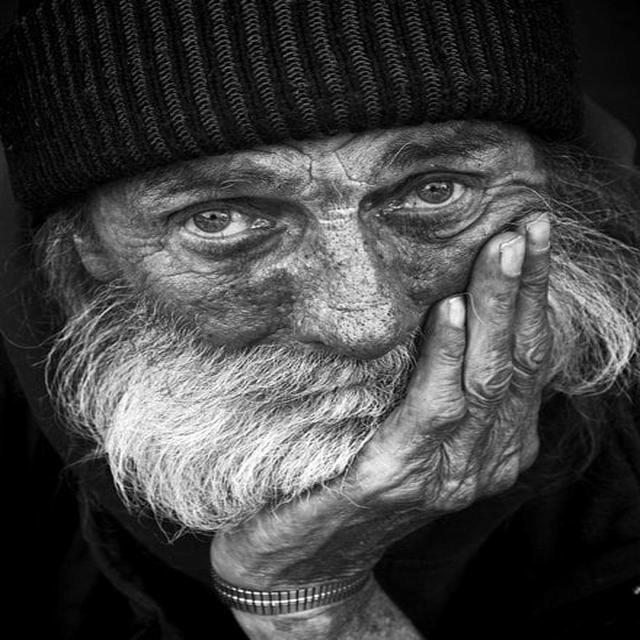Sadness: (95, 135, 546, 485)
